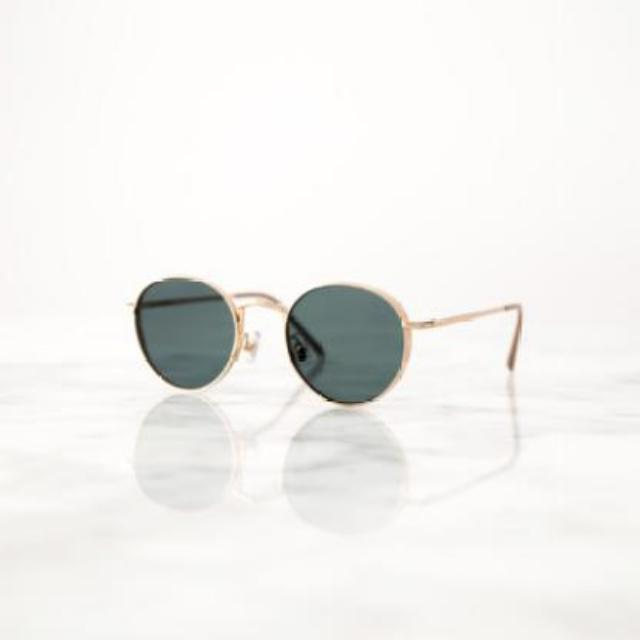sunglasses: (125, 276, 521, 404)
